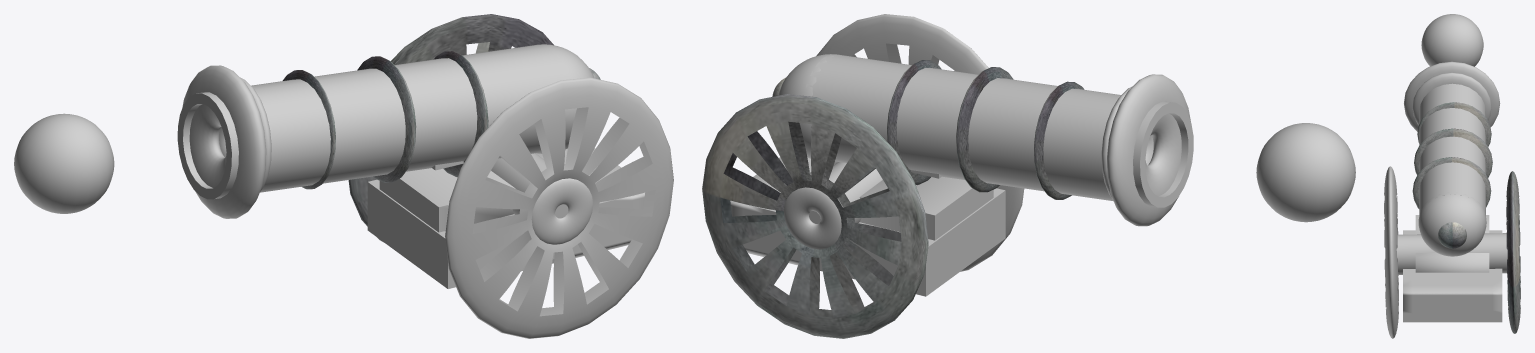
File: cannon.dae
The picture shows the model from 3 angles, left to right: view 1: azimuth 30°, elevation 25°; view 2: azimuth 150°, elevation 25°; view 3: azimuth 270°, elevation 25°; orthographic projection. The views are drawn at different scales.
Visible parts, largest first — view 1: Torus9, Cylinder, Sphere2, Torus5, Box, Torus8, Box1, Torus1, Torus3, Torus4, Sphere, Torus2 (+2 smaller); view 2: Torus8, Cylinder, Sphere2, Torus5, Torus9, Box, Box1, Torus, Torus3, Torus2, Sphere, Torus4 (+2 smaller); view 3: Cylinder, Box, Sphere, Sphere2, Torus9, Torus8, Cylinder1, Torus5, Box1, Torus6, Torus3, Torus4 (+2 smaller).
Boxes of the visible parts, x1=… form: Torus9: x1=445, y1=77, x2=673, y2=338; Cylinder: x1=177, y1=44, x2=569, y2=199; Sphere2: x1=14, y1=113, x2=114, y2=213; Torus5: x1=182, y1=65, x2=266, y2=218; Box: x1=367, y1=148, x2=644, y2=288; Torus8: x1=348, y1=14, x2=553, y2=242; Box1: x1=379, y1=153, x2=543, y2=232; Torus1: x1=531, y1=178, x2=593, y2=244; Torus3: x1=357, y1=56, x2=416, y2=182; Torus4: x1=434, y1=51, x2=488, y2=177; Sphere: x1=534, y1=44, x2=593, y2=153; Torus2: x1=282, y1=70, x2=335, y2=189; Torus8: x1=702, y1=94, x2=928, y2=338; Cylinder: x1=805, y1=54, x2=1193, y2=207; Sphere2: x1=1256, y1=123, x2=1355, y2=222; Torus5: x1=1107, y1=74, x2=1190, y2=226; Torus9: x1=816, y1=14, x2=1024, y2=271; Box: x1=730, y1=157, x2=1005, y2=296; Box1: x1=810, y1=162, x2=993, y2=240; Torus: x1=784, y1=187, x2=847, y2=249; Torus3: x1=956, y1=67, x2=1013, y2=192; Torus2: x1=1034, y1=81, x2=1084, y2=199; Sphere: x1=778, y1=54, x2=840, y2=162; Torus4: x1=887, y1=60, x2=941, y2=185; Cylinder: x1=1419, y1=83, x2=1485, y2=215; Box: x1=1403, y1=230, x2=1502, y2=322; Sphere: x1=1418, y1=192, x2=1486, y2=256; Sphere2: x1=1421, y1=14, x2=1483, y2=66; Torus9: x1=1384, y1=166, x2=1398, y2=338; Torus8: x1=1506, y1=171, x2=1520, y2=333; Cylinder1: x1=1396, y1=233, x2=1507, y2=274; Torus5: x1=1404, y1=61, x2=1500, y2=131; Box1: x1=1415, y1=215, x2=1489, y2=272; Torus6: x1=1412, y1=72, x2=1491, y2=125; Torus3: x1=1414, y1=128, x2=1492, y2=177; Torus4: x1=1412, y1=157, x2=1491, y2=208.
Bounding box in the file's own units: 4.35 × 2.06 × 1.38.
